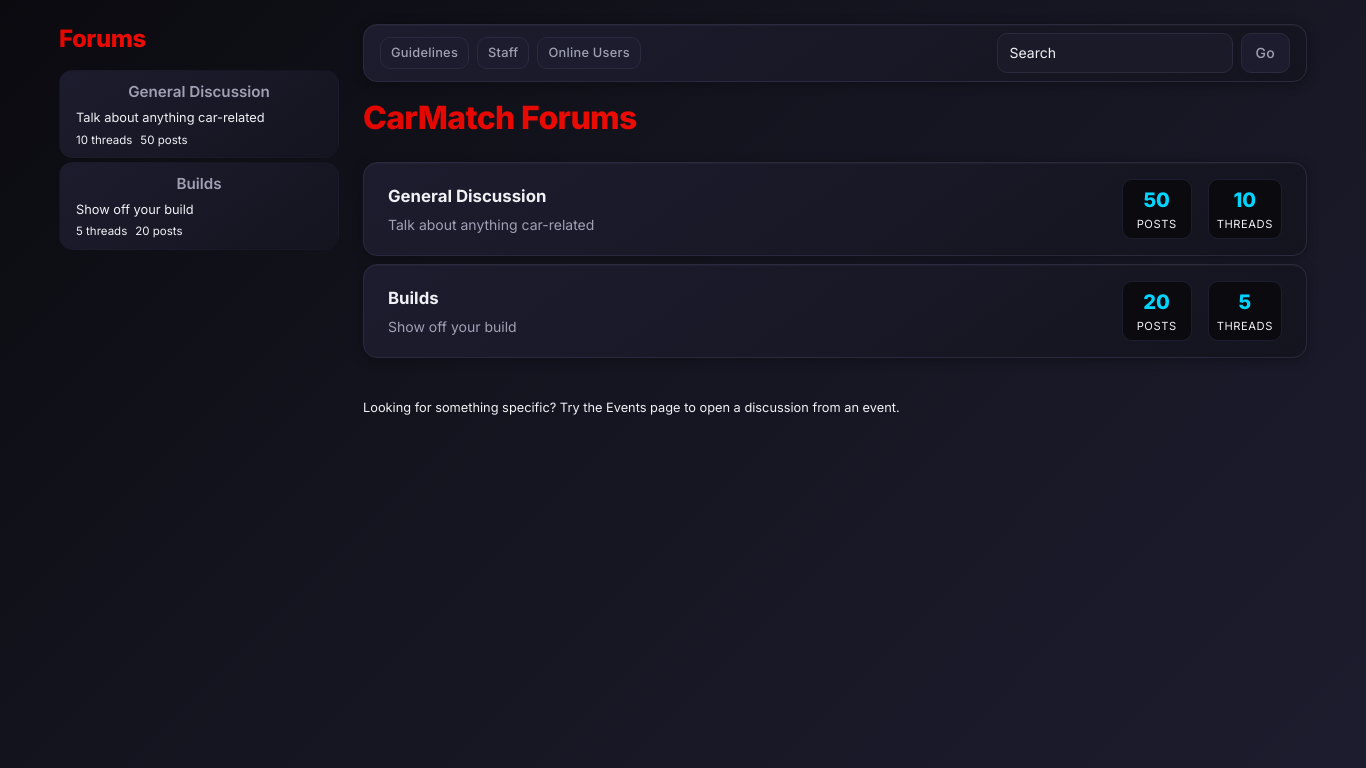
Scenario: Forums component › clicking a category loads thread list
// Click the sidebar button for the category
What coordinates should you click on to do the following:
click the button "General Discussion"
I would click on:
 (199, 92)
Its box is [76, 80, 322, 104].
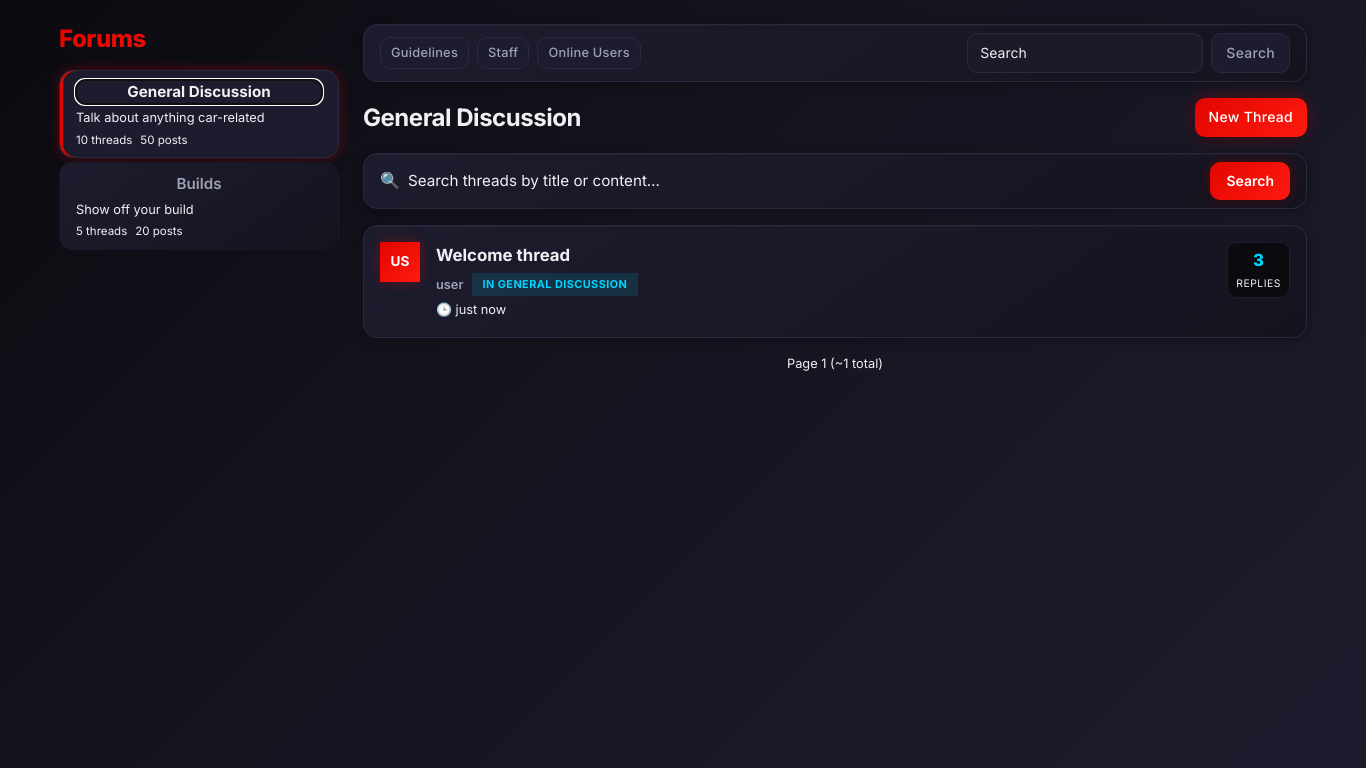
Now the text "Welcome thread" is shown, box [436, 242, 570, 269]
